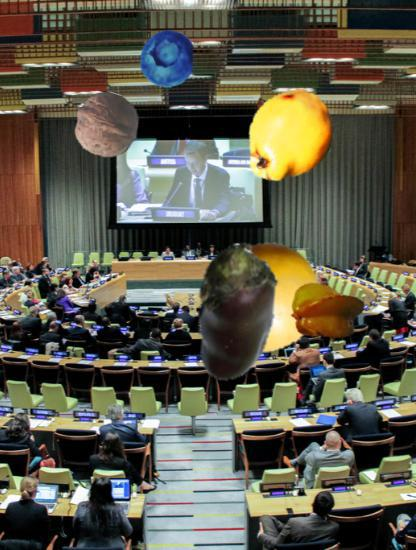Carambula: (290, 277, 364, 351)
Eggplant: (165, 241, 309, 385)
Grapefruit: (209, 239, 325, 355)
Huckleberry: (138, 30, 196, 88)
Quince: (237, 86, 339, 188)
Walnut: (74, 92, 141, 159)
